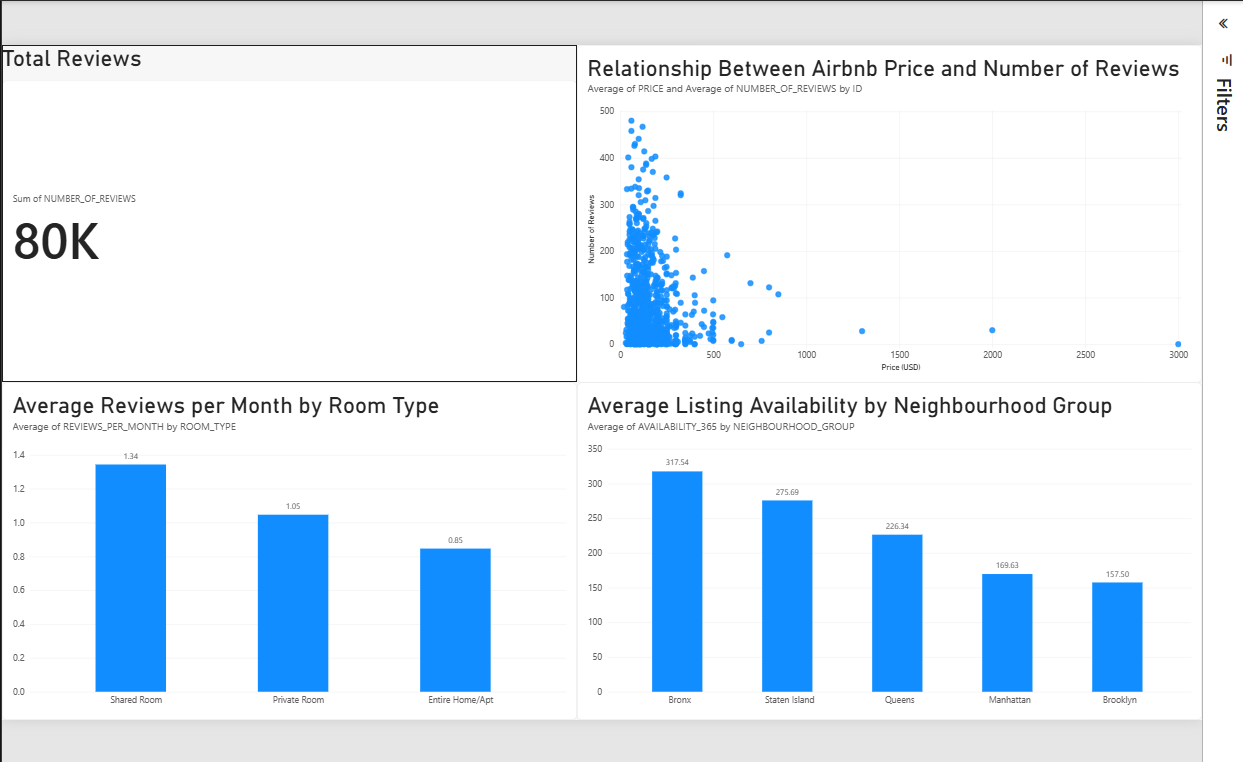

What the dashboard file says about the page in this screenshot:
{"tool":"powerbi","page":{"name":"Reviews and Availability Analysis","canvas":[1920,1080],"ordinal":3},"visuals":[{"type":"cardVisual","title":"Total Reviews","fields":{"Data":["Sum(Cleaned Data.NUMBER_OF_REVIEWS)"]},"box":[0,0,920,540],"z":0},{"type":"clusteredColumnChart","title":"Average Reviews per Month by Room Type","fields":{"Category":["Cleaned Data.ROOM_TYPE"],"Y":["Avg(Cleaned Data.REVIEWS_PER_MONTH)"]},"box":[0,540,920,540],"z":1},{"type":"clusteredColumnChart","title":"Average Listing Availability by Neighbourhood Group","fields":{"Category":["Cleaned Data.NEIGHBOURHOOD_GROUP"],"Y":["Avg(Cleaned Data.AVAILABILITY_365)"]},"box":[920,540,1000,540],"z":2},{"type":"scatterChart","title":"Relationship Between Airbnb Price and Number of Reviews","fields":{"Category":["Cleaned Data.ID"],"X":["Avg(Cleaned Data.PRICE)"],"Y":["Avg(Cleaned Data.NUMBER_OF_REVIEWS)"]},"box":[920,0,1000,540],"z":3}]}

Visuals, with their boxes on the page's 1920x1080 design canvas (x1, y1, x2, y2). These are canvas units, not pixel positions in the 1243x762 screenshot, which may show the page scaled, cropped or inside an application window:
"Total Reviews" cardVisual: x1=0, y1=0, x2=920, y2=540
"Average Reviews per Month by Room Type" clusteredColumnChart: x1=0, y1=540, x2=920, y2=1080
"Average Listing Availability by Neighbourhood Group" clusteredColumnChart: x1=920, y1=540, x2=1920, y2=1080
"Relationship Between Airbnb Price and Number of Reviews" scatterChart: x1=920, y1=0, x2=1920, y2=540
